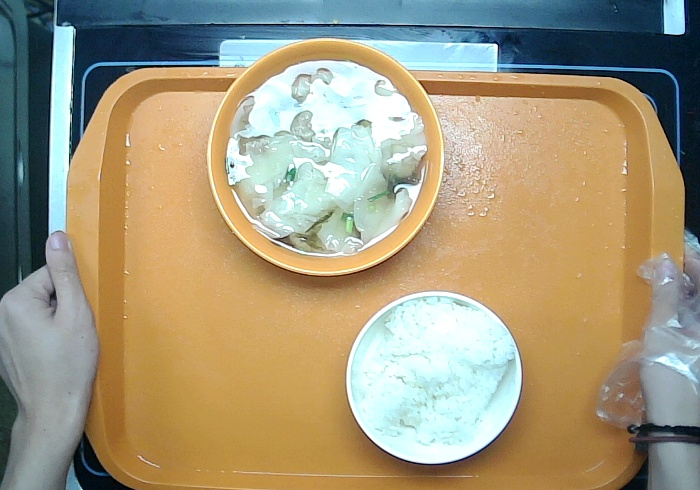NLDX-Fan_Wan: (339, 286, 526, 470)
NLDX-Hun_Tun_Wan: (199, 36, 449, 282)
